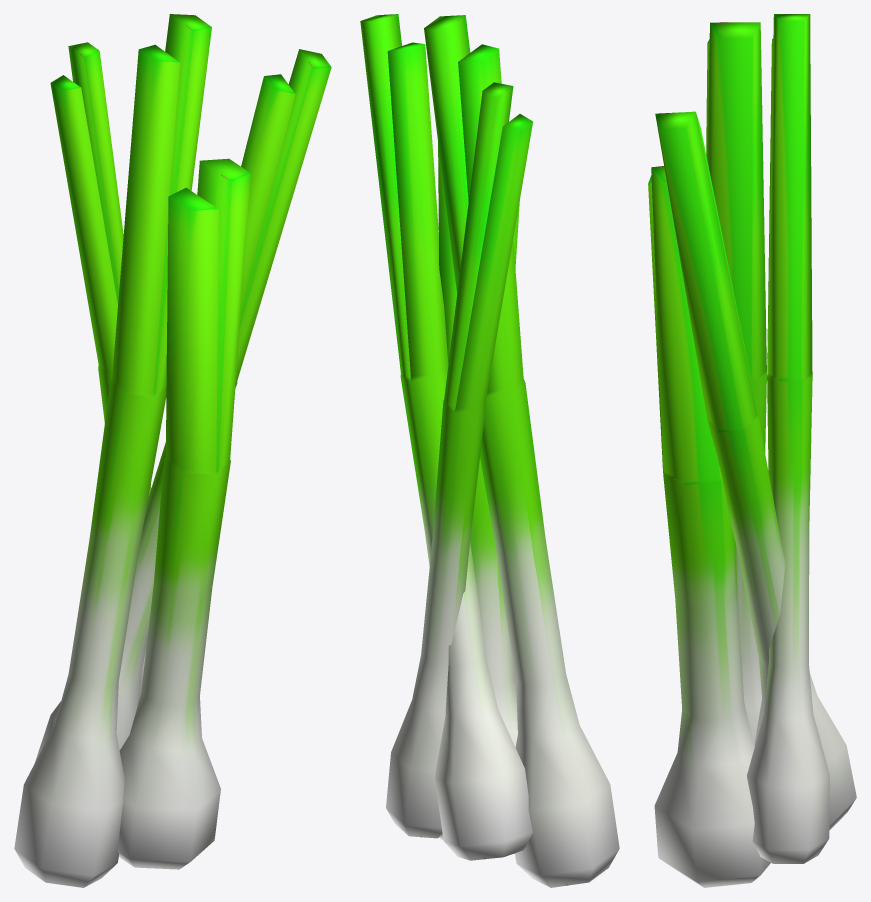
The model's file is scallions.fbx.
3 renders of one model, left to right at view 1: azimuth 30°, elevation 25°; view 2: azimuth 150°, elevation 25°; view 3: azimuth 270°, elevation 25°, orthographic. The views are drawn at different scales.
Visible parts, largest first — view 1: Sphere.003, Sphere, Sphere.001, Sphere.002; view 2: Sphere.003, Sphere.001, Sphere.002, Sphere; view 3: Sphere, Sphere.002, Sphere.001, Sphere.003.
Boxes of the visible parts, bbox=[...] form: Sphere.003: bbox=[14, 14, 211, 887]; Sphere: bbox=[117, 158, 250, 869]; Sphere.001: bbox=[35, 49, 331, 762]; Sphere.002: bbox=[50, 42, 151, 706]; Sphere.003: bbox=[424, 15, 619, 887]; Sphere.001: bbox=[360, 14, 532, 860]; Sphere.002: bbox=[386, 82, 532, 838]; Sphere: bbox=[438, 142, 519, 853]; Sphere: bbox=[648, 166, 770, 887]; Sphere.002: bbox=[747, 14, 829, 863]; Sphere.001: bbox=[655, 111, 856, 830]; Sphere.003: bbox=[706, 22, 766, 743].
Bounding box in the file's own units: 439 × 1282 × 278.
